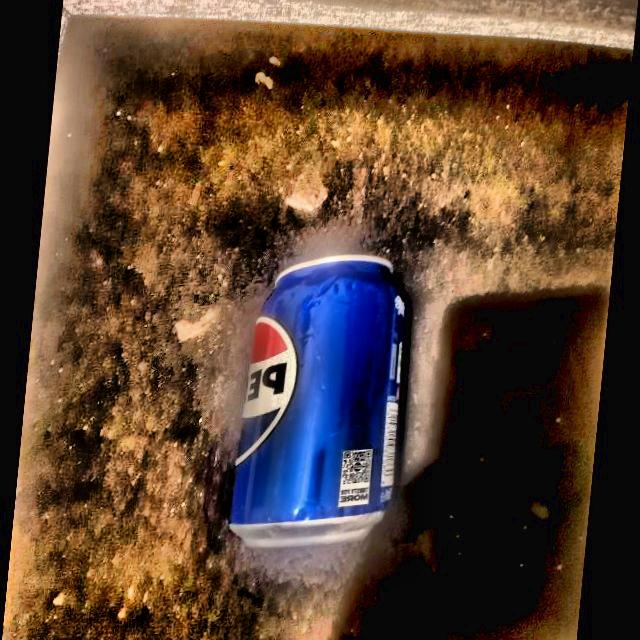pepsi-can: (236, 253, 413, 557)
